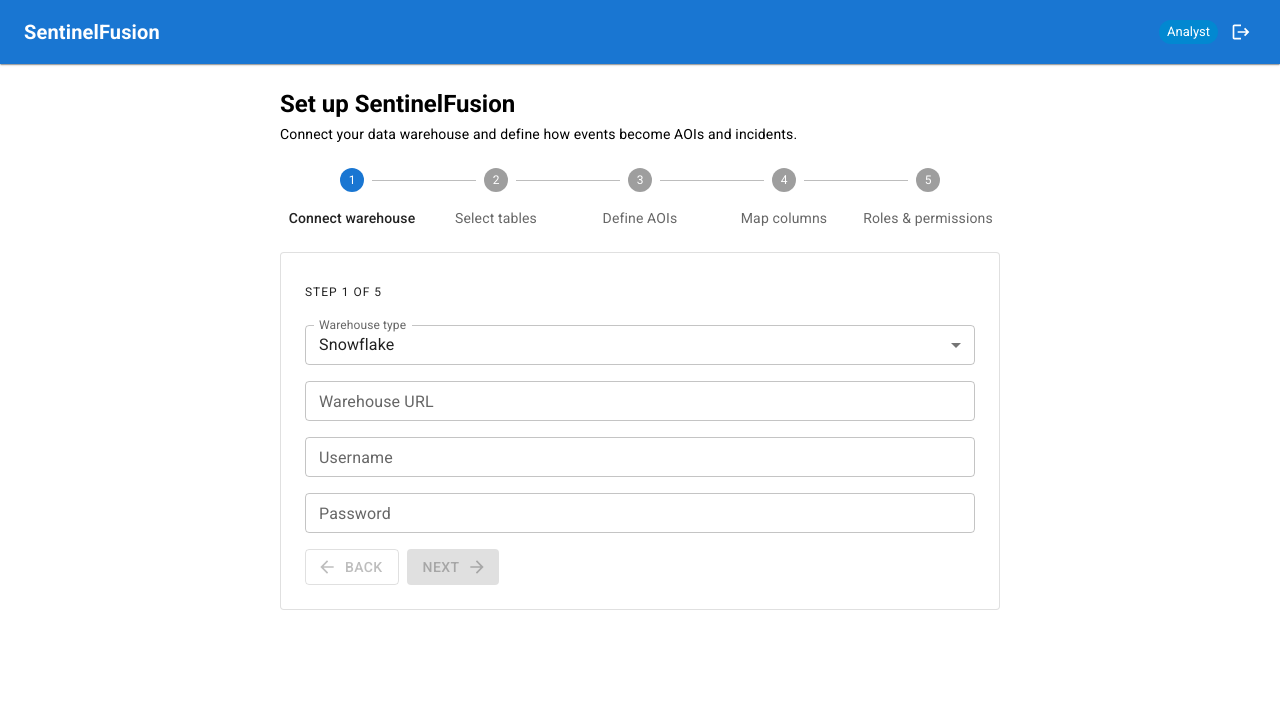
Test: OnboardingWizard › keeps Next disabled until the warehouse step is filled in
The image size is (1280, 720).
Check: the button "Next" is disabled, box [407,549,499,586]
Type "https://acme.snowflakecomputing.com" into the field labelled "Warehouse URL".
click(640, 401); type("https://acme.snowflakecomputing.com")  # box [305,381,975,421]
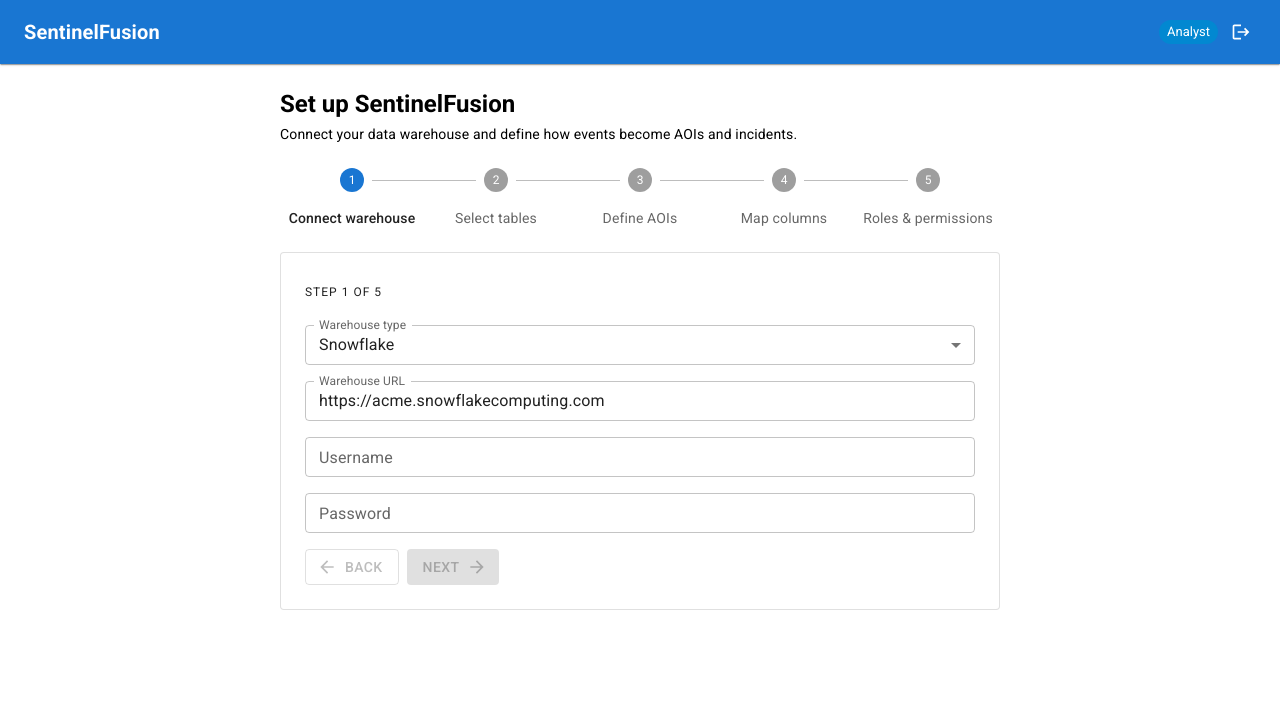
Check: the button "Next" is disabled, box [407,549,499,586]
Type "analyst" into the field labelled "Username".
click(640, 457); type("analyst")  # box [305,437,975,477]
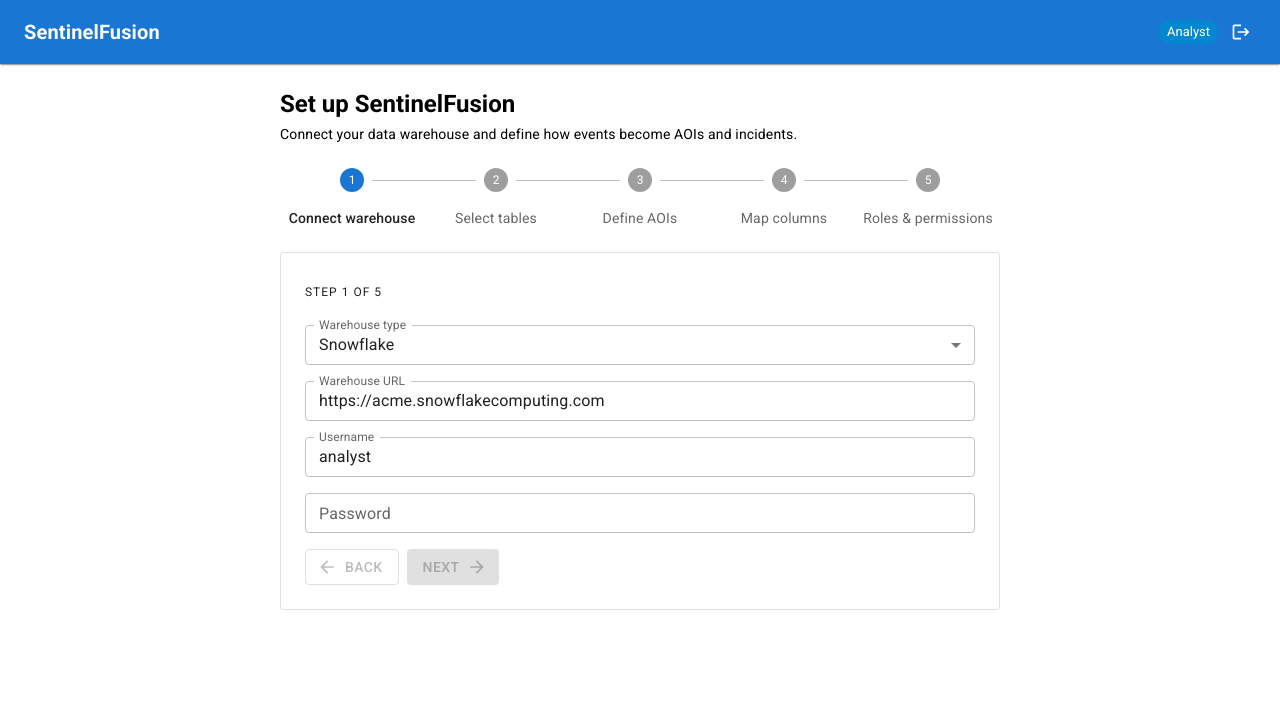
Type "hunter2" into the password field labelled "Password".
click(640, 513); type("hunter2")  # box [305,493,975,533]
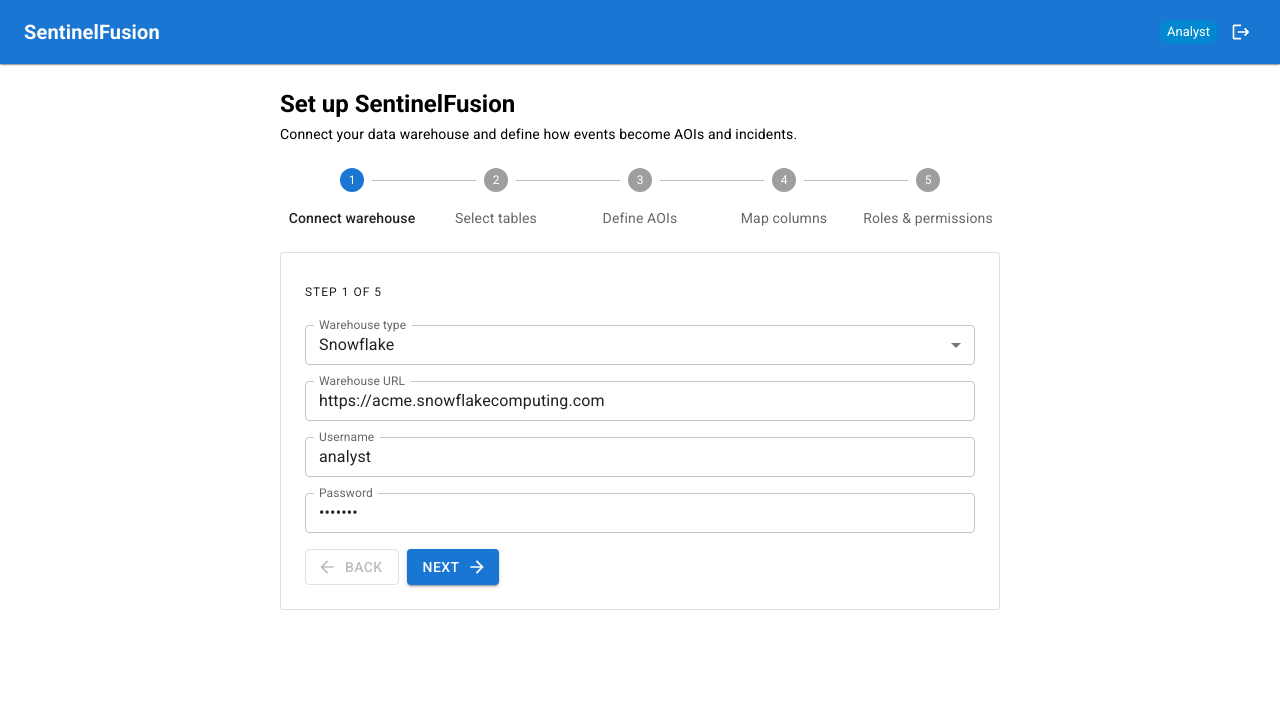
Check: the button "Next" is enabled, box [407,549,499,586]
